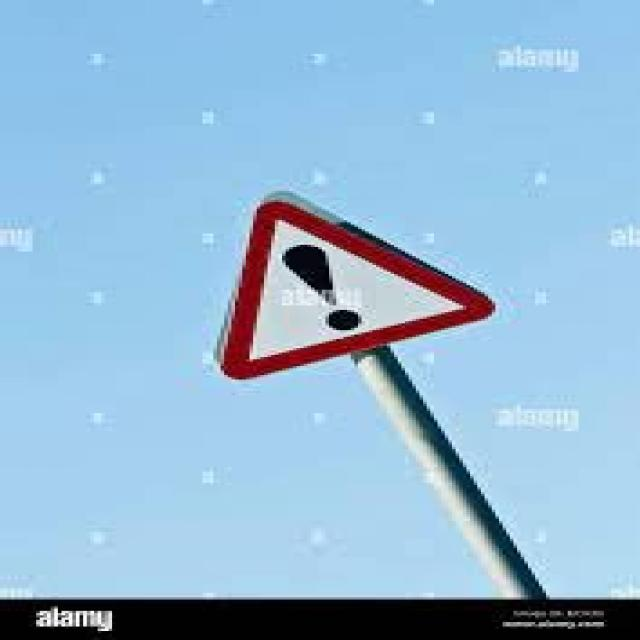warning: (199, 192, 505, 388)
